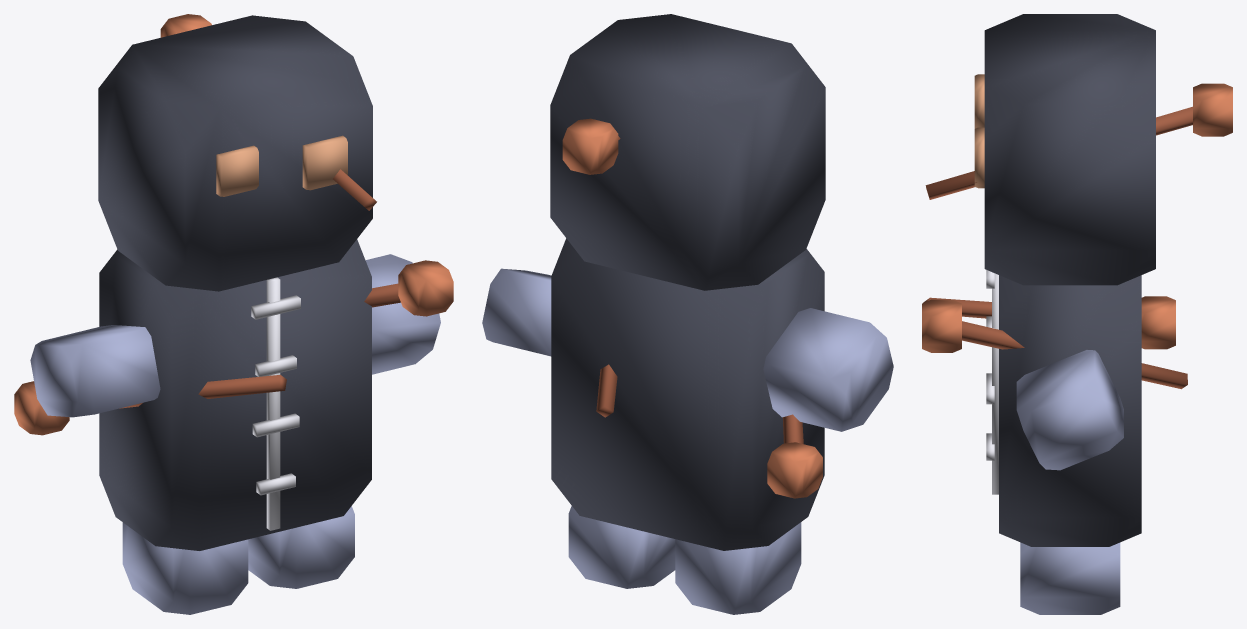
File: doll.glb
3 renders of one model, left to right at view 1: azimuth 30°, elevation 25°; view 2: azimuth 150°, elevation 25°; view 3: azimuth 270°, elevation 25°, orthographic.
Parts seen in each view (by area): view 1: body; view 2: body; view 3: body.
Boxes of the visible parts, x1=… form: body: x1=14, y1=14, x2=453, y2=614; body: x1=482, y1=14, x2=893, y2=614; body: x1=922, y1=14, x2=1232, y2=614.
Size of the model in its own units: 0.29 by 0.395 by 0.218.
